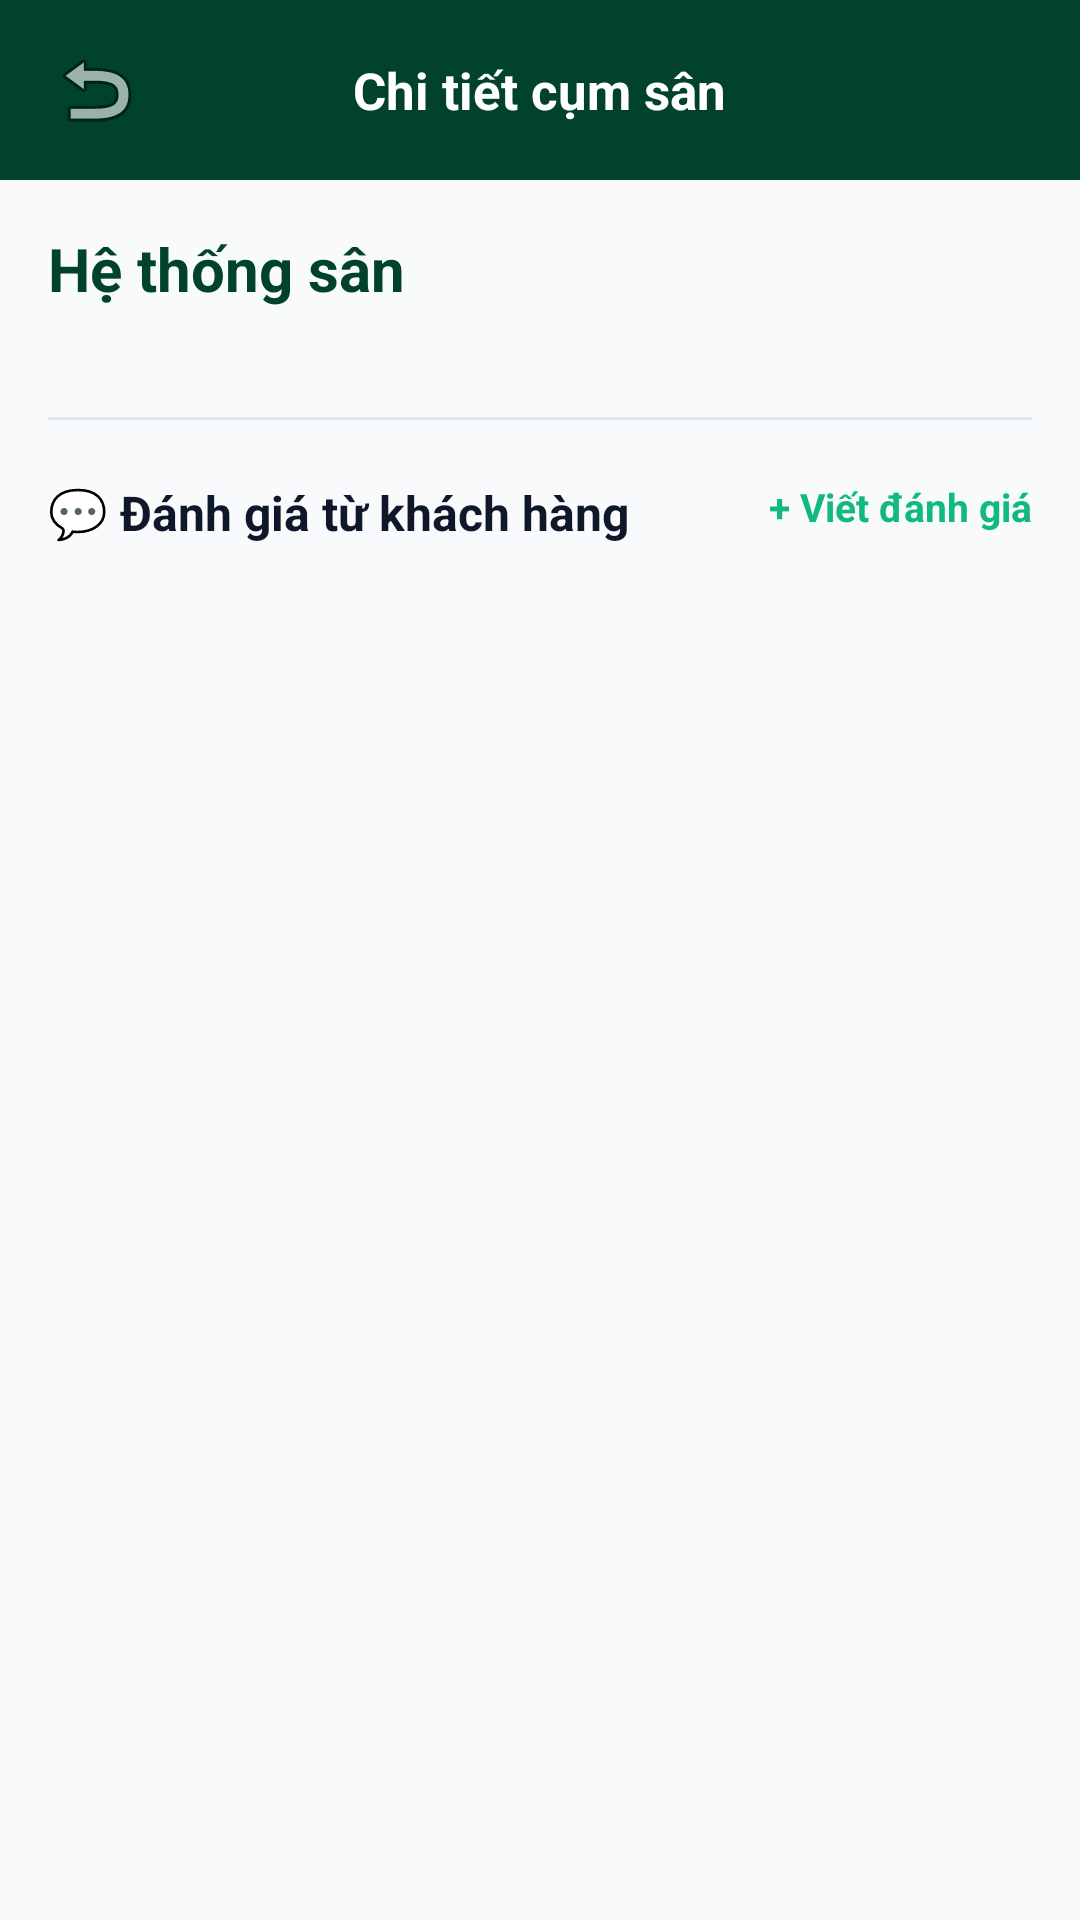

Icon click points for this 1080 × 1920 phone screenshot, format point (x, y):
Back Button: point (97, 90)
